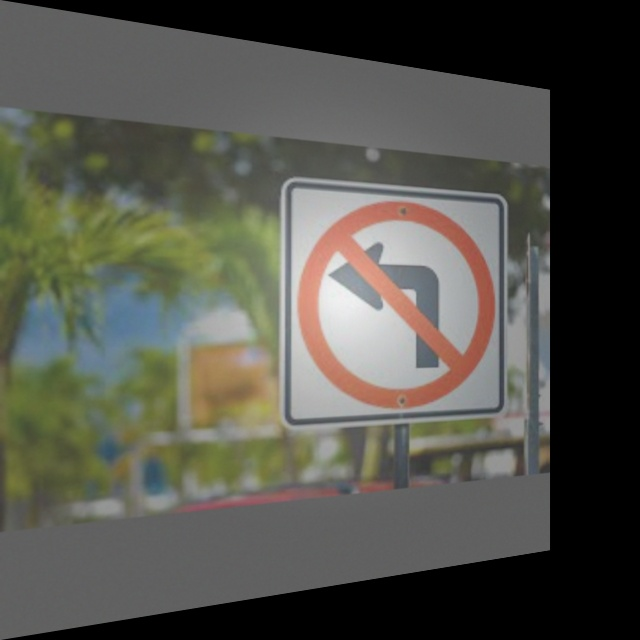Left_Turn_Prohibited: (297, 191, 499, 420)
